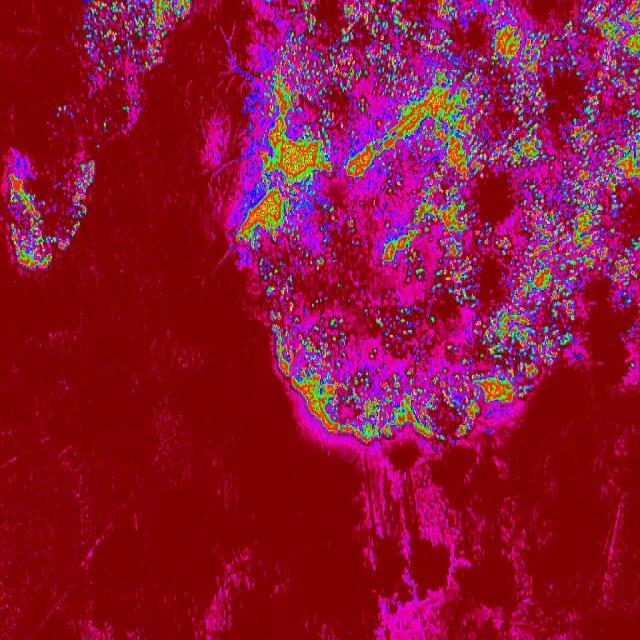fire: (227, 0, 640, 311), (274, 312, 589, 388), (293, 387, 529, 447), (0, 149, 54, 271), (77, 0, 141, 92), (55, 161, 93, 253), (142, 0, 168, 74), (168, 0, 193, 28)
